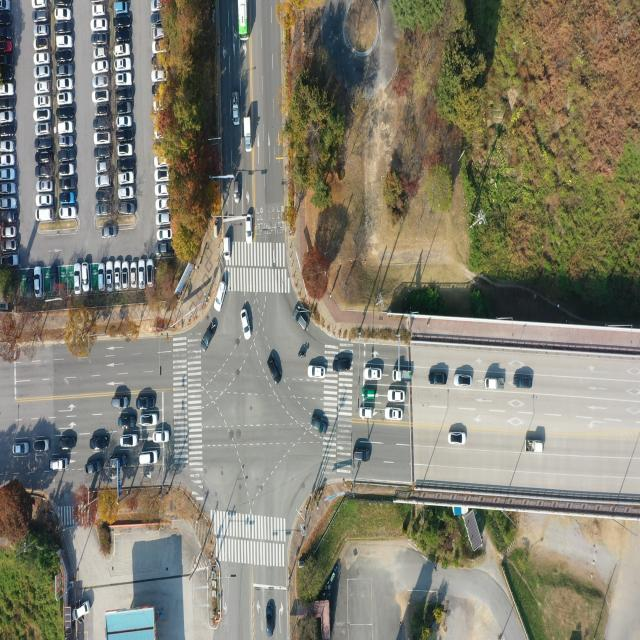car: (202, 320, 217, 352), (72, 600, 90, 624), (269, 354, 283, 383), (214, 280, 227, 311), (49, 266, 60, 297), (293, 308, 307, 332), (242, 311, 252, 340), (428, 373, 447, 388), (334, 358, 354, 372), (312, 418, 328, 435), (91, 439, 110, 453), (385, 409, 403, 423), (454, 375, 472, 389), (0, 253, 18, 267), (137, 397, 154, 411), (268, 604, 275, 638), (515, 377, 533, 390), (140, 452, 158, 465), (84, 461, 102, 474), (0, 95, 15, 110), (36, 208, 52, 222), (57, 35, 73, 49), (60, 207, 77, 220), (364, 367, 381, 380), (449, 432, 466, 445), (309, 365, 326, 378), (388, 390, 405, 403), (141, 415, 158, 428), (35, 138, 52, 151), (114, 15, 131, 28), (354, 451, 371, 464), (117, 418, 135, 430), (108, 456, 126, 468), (117, 144, 132, 158), (114, 1, 129, 15), (0, 126, 15, 140), (33, 269, 40, 299), (152, 40, 166, 55), (93, 20, 109, 33), (118, 203, 134, 216), (0, 183, 16, 196), (58, 94, 74, 107), (94, 92, 110, 105), (95, 133, 111, 146), (119, 172, 135, 185), (34, 109, 50, 122), (116, 102, 132, 115), (36, 167, 52, 180), (36, 151, 52, 164), (118, 157, 134, 170), (0, 198, 17, 210), (111, 398, 128, 410), (120, 437, 137, 449), (246, 217, 253, 246), (0, 85, 14, 99), (74, 266, 81, 294), (82, 265, 89, 293), (0, 141, 15, 154), (57, 7, 72, 20), (120, 186, 135, 199), (60, 165, 75, 178), (62, 178, 77, 191), (34, 38, 49, 51), (114, 44, 130, 56), (59, 122, 75, 134), (58, 66, 74, 78), (61, 440, 77, 452), (94, 76, 110, 88), (58, 78, 74, 90), (94, 62, 110, 74), (114, 30, 130, 42), (60, 149, 76, 161), (116, 90, 132, 102), (0, 10, 12, 26), (139, 263, 146, 290), (97, 176, 111, 189), (0, 111, 14, 124), (158, 242, 172, 255), (147, 262, 154, 288), (26, 272, 33, 298), (0, 156, 15, 168), (0, 170, 15, 182), (37, 197, 52, 209), (116, 74, 131, 86), (34, 441, 49, 453), (61, 195, 76, 207), (102, 228, 117, 240), (37, 181, 52, 193), (34, 54, 49, 66), (361, 387, 376, 399), (35, 98, 50, 110), (95, 117, 110, 129), (155, 431, 171, 442), (12, 444, 28, 455), (131, 264, 138, 289), (97, 205, 110, 218), (157, 200, 170, 213), (0, 27, 13, 40), (116, 60, 130, 72), (35, 67, 49, 79), (117, 116, 131, 128), (2, 228, 16, 240), (36, 126, 50, 138), (158, 230, 172, 242), (34, 26, 48, 38), (36, 184, 50, 196), (97, 190, 111, 202), (96, 147, 110, 159), (33, 10, 47, 22), (0, 39, 12, 53), (119, 128, 133, 140), (58, 22, 72, 34), (59, 50, 73, 62), (359, 409, 374, 420), (107, 264, 113, 291), (115, 264, 121, 291), (158, 214, 171, 226), (157, 184, 169, 197), (152, 70, 165, 82), (157, 170, 170, 182), (156, 158, 169, 170), (98, 265, 104, 291), (61, 106, 74, 118), (122, 264, 128, 290), (0, 70, 13, 82), (35, 84, 49, 95), (3, 241, 17, 252), (94, 34, 108, 45), (96, 105, 110, 116), (0, 54, 11, 68), (60, 138, 75, 148), (94, 4, 106, 16), (95, 46, 107, 58), (152, 54, 162, 68), (223, 237, 229, 260), (152, 84, 161, 99), (0, 0, 11, 12), (97, 163, 109, 174), (234, 181, 240, 203), (150, 0, 160, 12), (153, 28, 163, 40), (151, 12, 161, 24), (32, 0, 46, 8), (56, 0, 72, 6)
large_bus: (237, 0, 250, 43)
small_truck: (524, 440, 544, 456), (485, 377, 505, 391), (244, 117, 252, 151), (392, 370, 411, 384), (233, 94, 241, 125), (0, 211, 16, 225), (50, 458, 67, 471)
